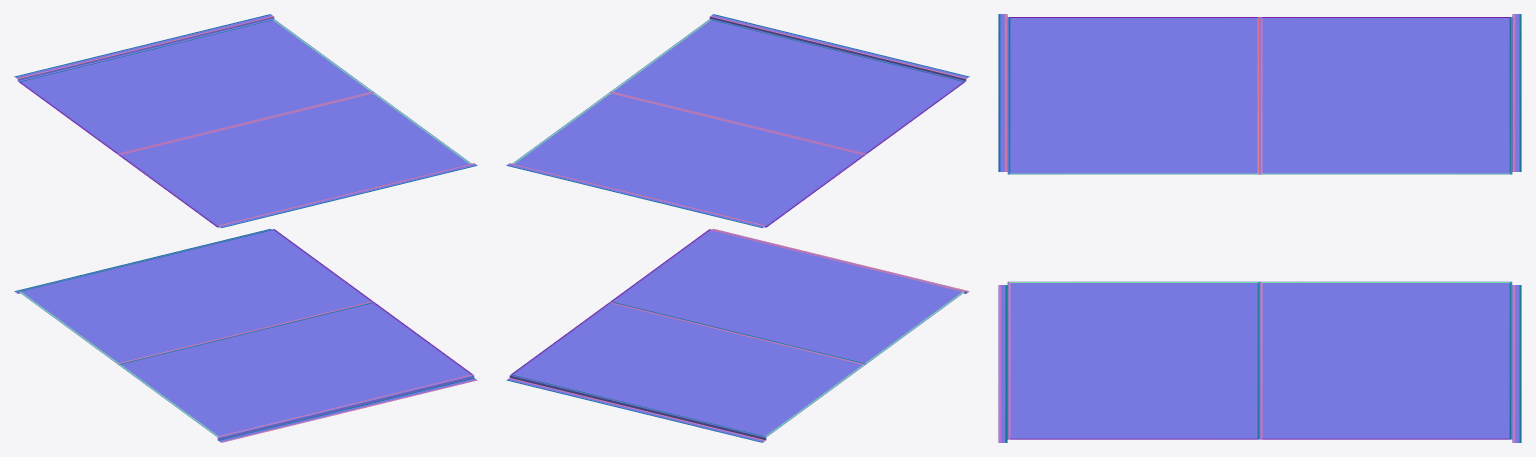
The model's file is Floor_Roof_01.FBX.
3 views of the same model, side by side, from view 1: azimuth 30°, elevation 25°; view 2: azimuth 150°, elevation 25°; view 3: azimuth 270°, elevation 25° (orthographic). The views are drawn at different scales.
Visible parts, largest first — view 1: Floor_Roof_01; view 2: Floor_Roof_01; view 3: Floor_Roof_01.
Part boxes in pixels (<box>): Floor_Roof_01: <box>14,14,477,442</box>; Floor_Roof_01: <box>506,14,969,442</box>; Floor_Roof_01: <box>998,14,1521,442</box>.
Bounding box in the file's own units: 10 × 8 × 14.
Materials: 1 (1 with a texture image).
